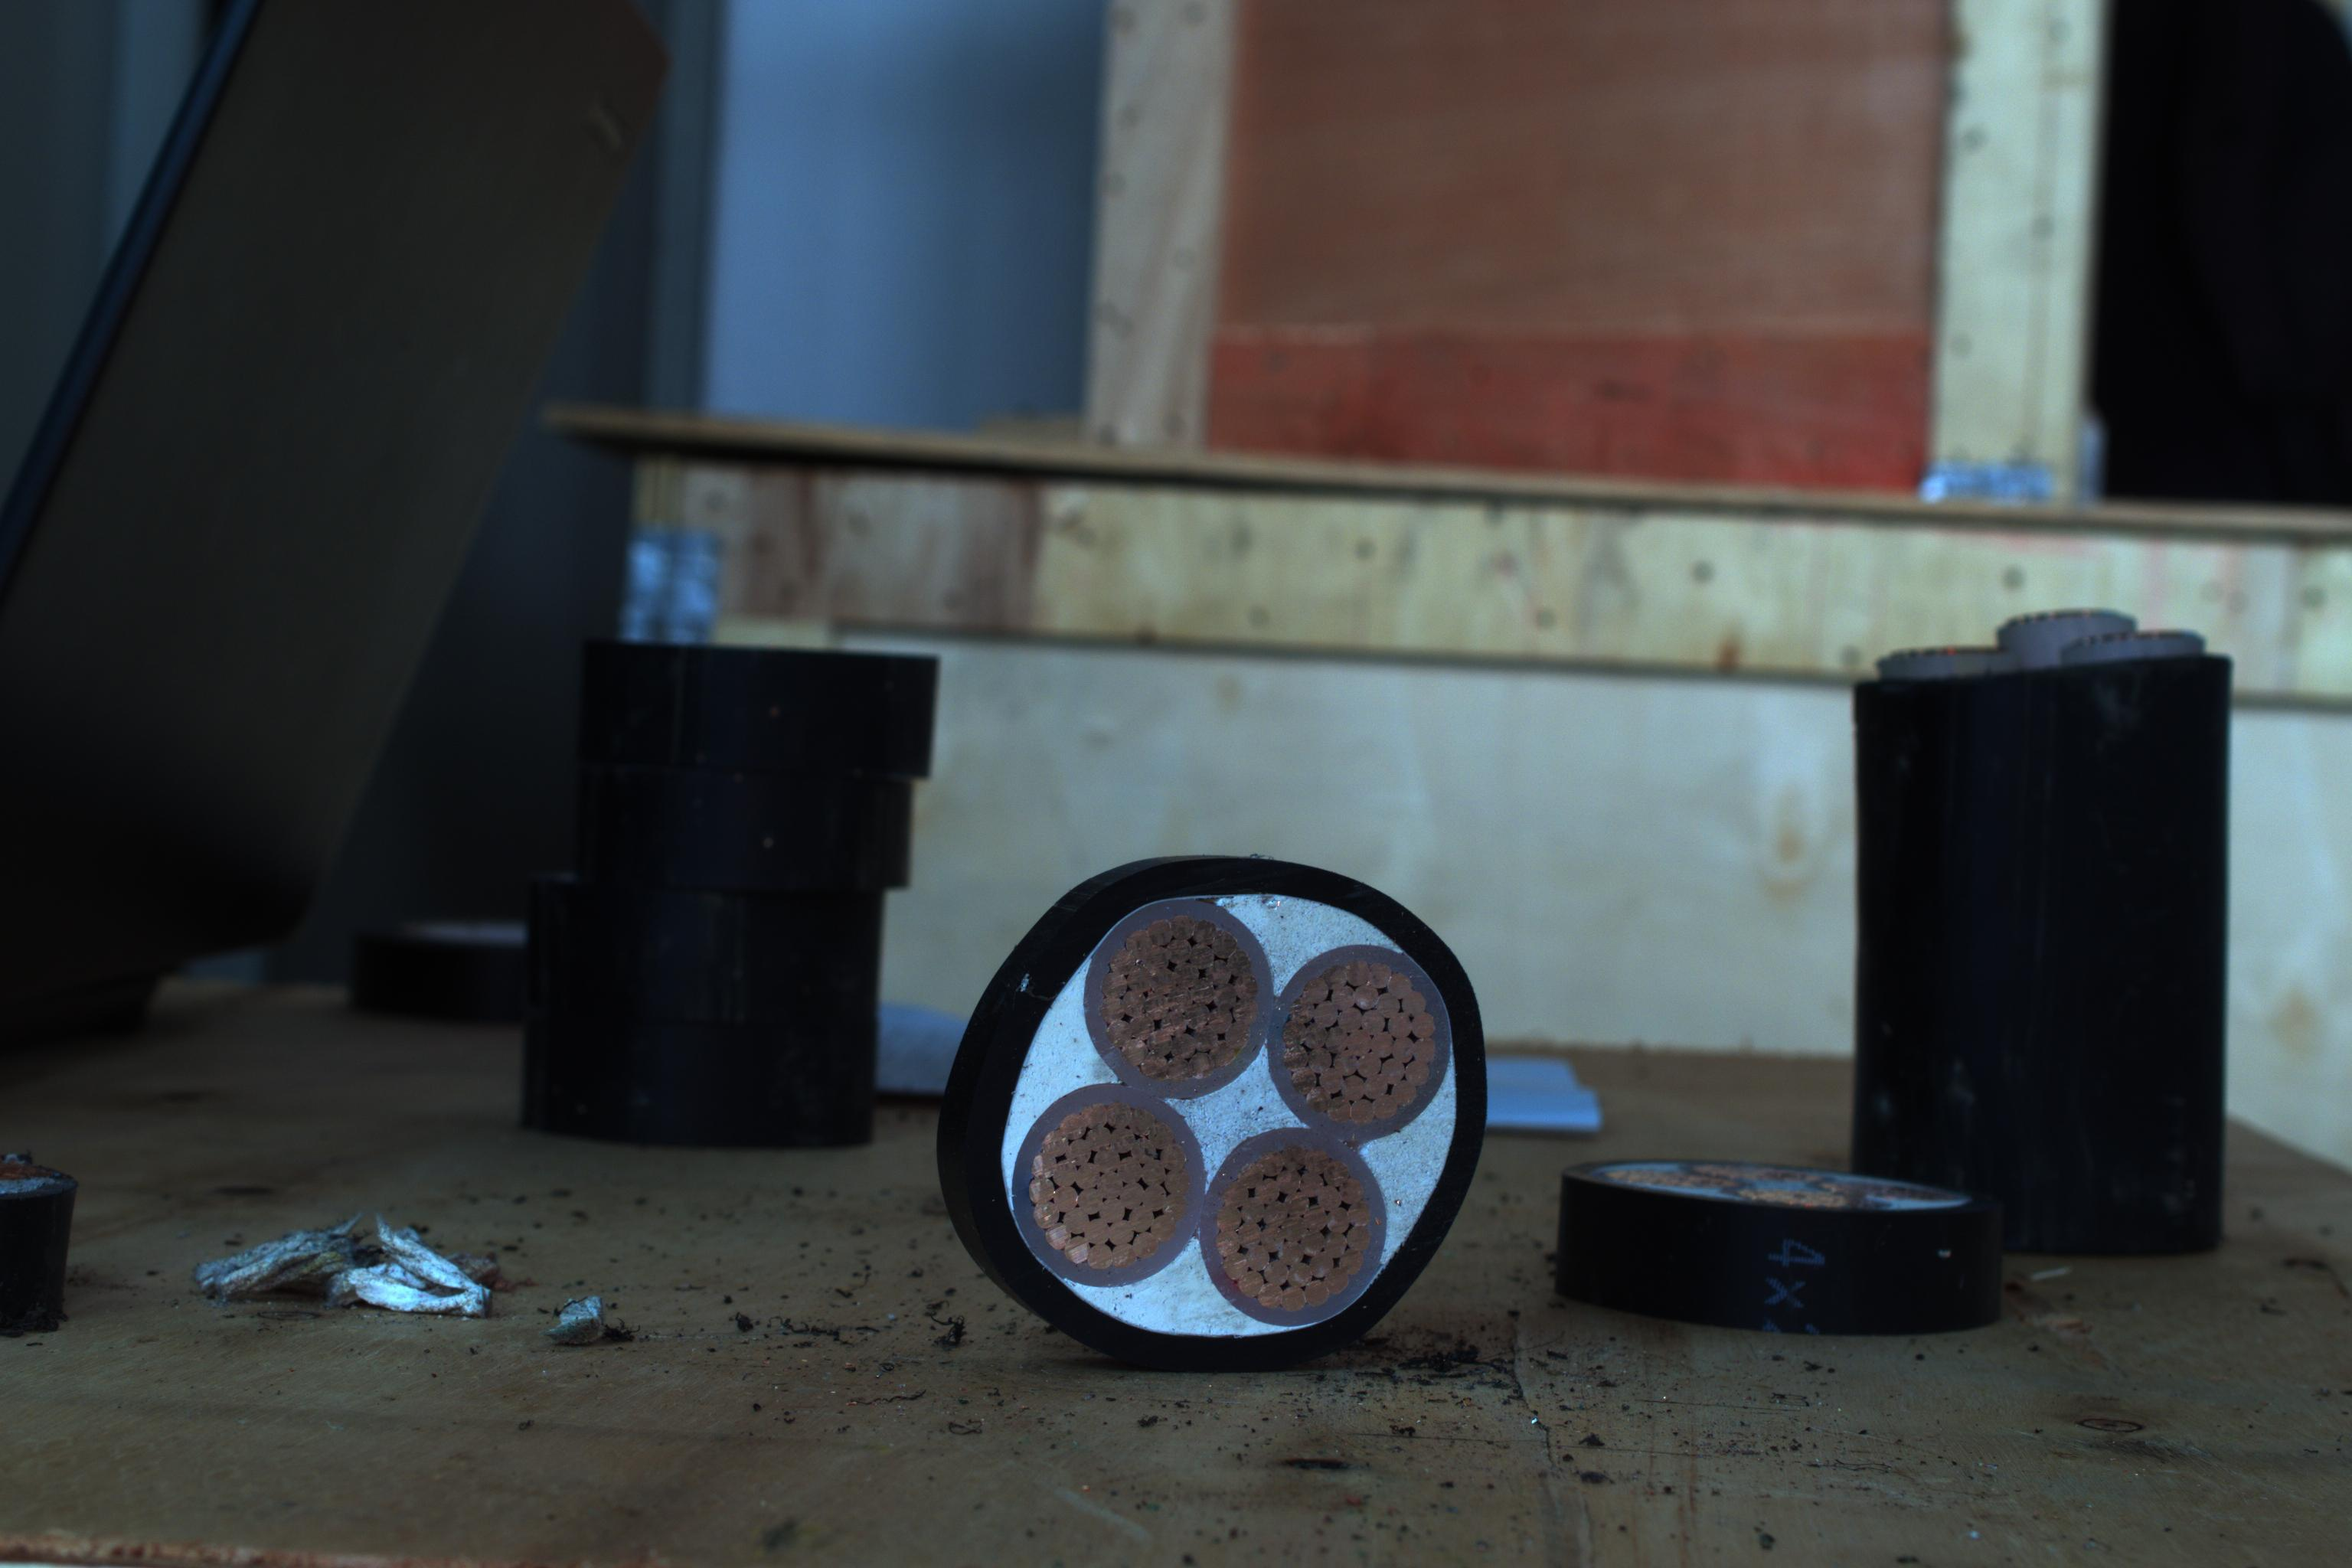YJV_0.6_1kV_4x240: (955, 857, 1508, 1372)
